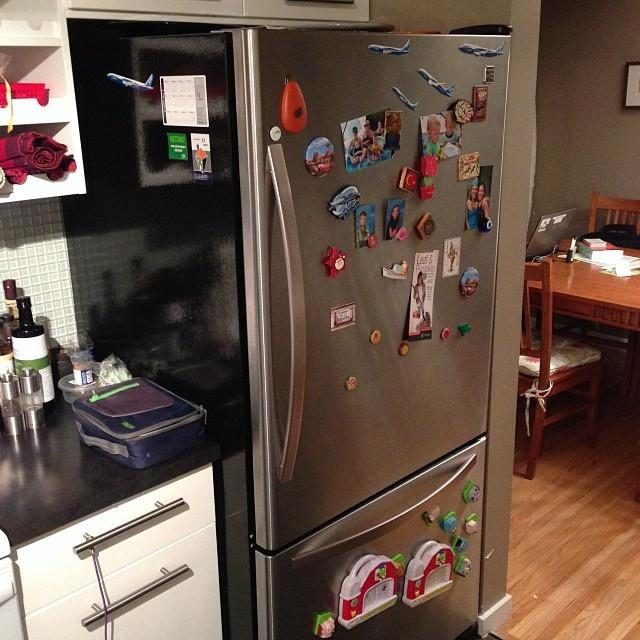Kursi: (509, 257, 601, 480)
